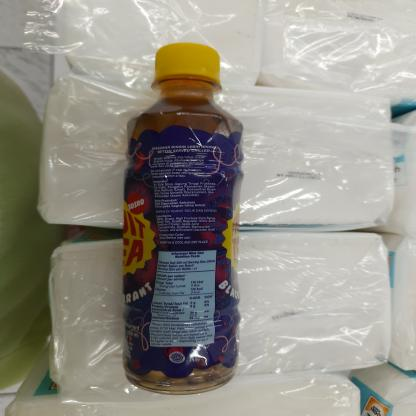bottle: (118, 38, 249, 400)
